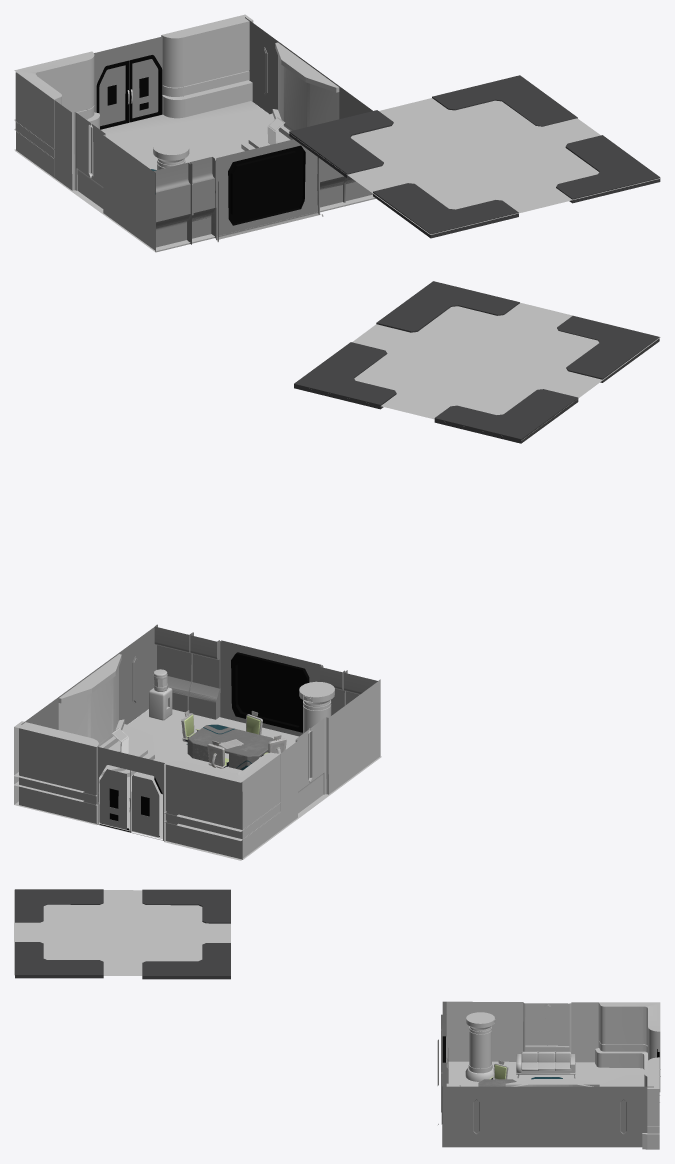
The model's file is lab_1.FBX.
3 views of the same model, one above another, from view 1: azimuth 30°, elevation 25°; view 2: azimuth 150°, elevation 25°; view 3: azimuth 270°, elevation 25° (orthographic). The views are drawn at different scales.
Visible parts, largest first — view 1: celing, wall_00, wall_01, wall_02, floor, big_fanus, fanus; view 2: celing, wall_00, wall_02, big_fanus, floor, wall_01, table_01, fanus, promter; view 3: celing, wall_00, wall_02, wall_01, floor, fanus, Sofa, big_fanus.
Part boxes in pixels (bbox=[...]): celing: bbox=[289, 75, 660, 238]; wall_00: bbox=[16, 17, 375, 252]; wall_01: bbox=[14, 14, 253, 177]; wall_02: bbox=[15, 72, 155, 252]; floor: bbox=[15, 101, 374, 251]; big_fanus: bbox=[241, 42, 339, 150]; fanus: bbox=[153, 139, 189, 169]; celing: bbox=[294, 281, 660, 443]; wall_00: bbox=[19, 624, 380, 859]; wall_02: bbox=[242, 680, 380, 859]; big_fanus: bbox=[58, 654, 154, 783]; floor: bbox=[99, 709, 381, 858]; wall_01: bbox=[14, 721, 280, 860]; table_01: bbox=[187, 724, 274, 770]; fanus: bbox=[299, 681, 334, 733]; promter: bbox=[111, 669, 172, 812]; celing: bbox=[14, 889, 230, 979]; wall_00: bbox=[437, 1001, 659, 1147]; wall_02: bbox=[446, 1001, 598, 1062]; wall_01: bbox=[595, 1002, 660, 1149]; floor: bbox=[446, 1061, 644, 1086]; fanus: bbox=[465, 1012, 495, 1081]; Sofa: bbox=[516, 1051, 575, 1078]; big_fanus: bbox=[505, 1079, 599, 1086].
Size of the model in its own units: 1089 by 1027 by 3378.
